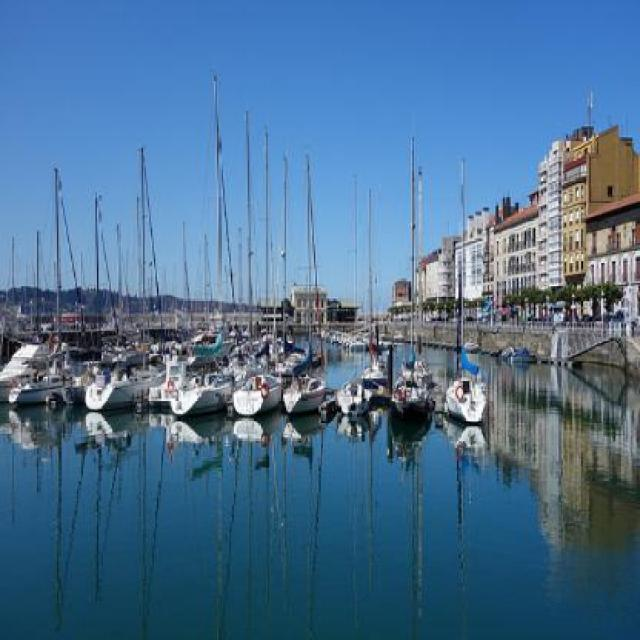ship: (81, 363, 168, 411), (440, 366, 498, 423), (168, 364, 229, 416), (230, 361, 282, 419), (389, 363, 436, 425), (332, 350, 374, 419), (284, 366, 322, 416)
